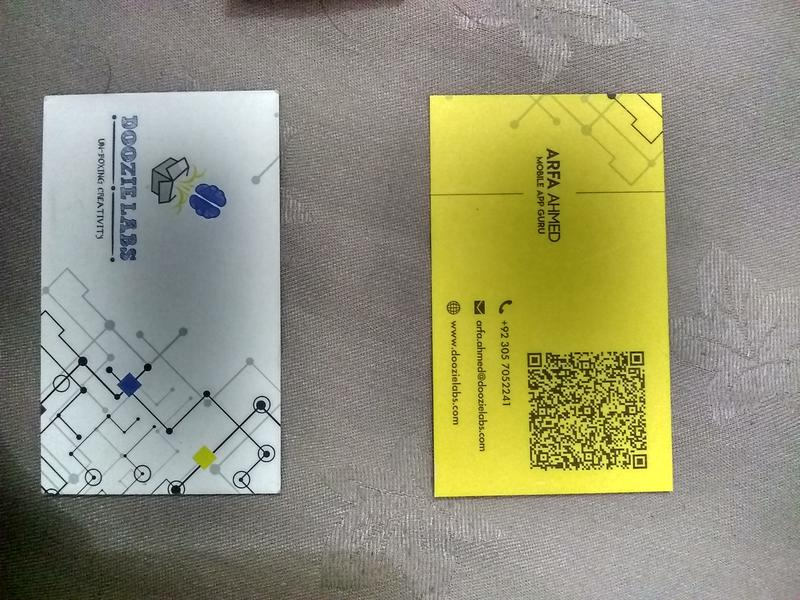back: (41, 96, 278, 495)
front: (431, 87, 670, 497)
